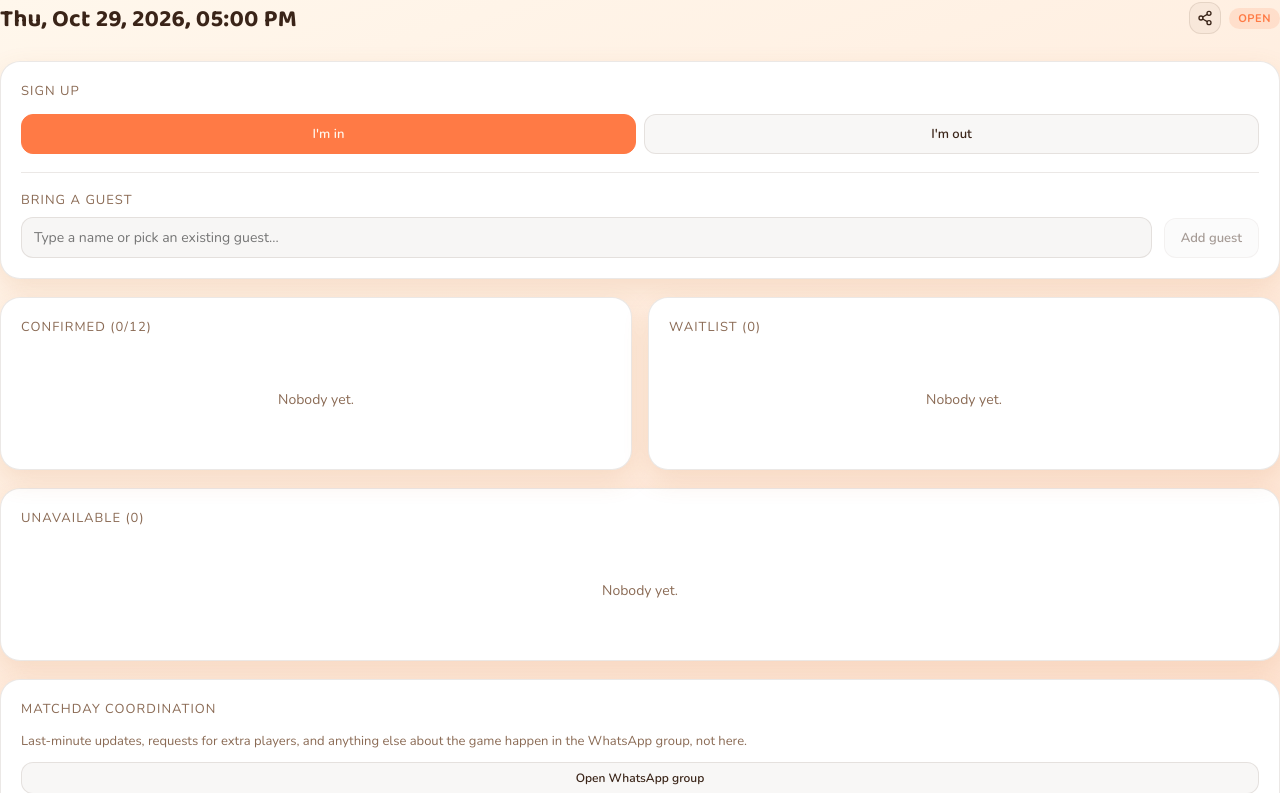
Test: GamedayDetail - signing up › shows the server's error when registering fails
Click the button "I'm in" at (328, 134), box x1=21 y1=114 x2=636 y2=154
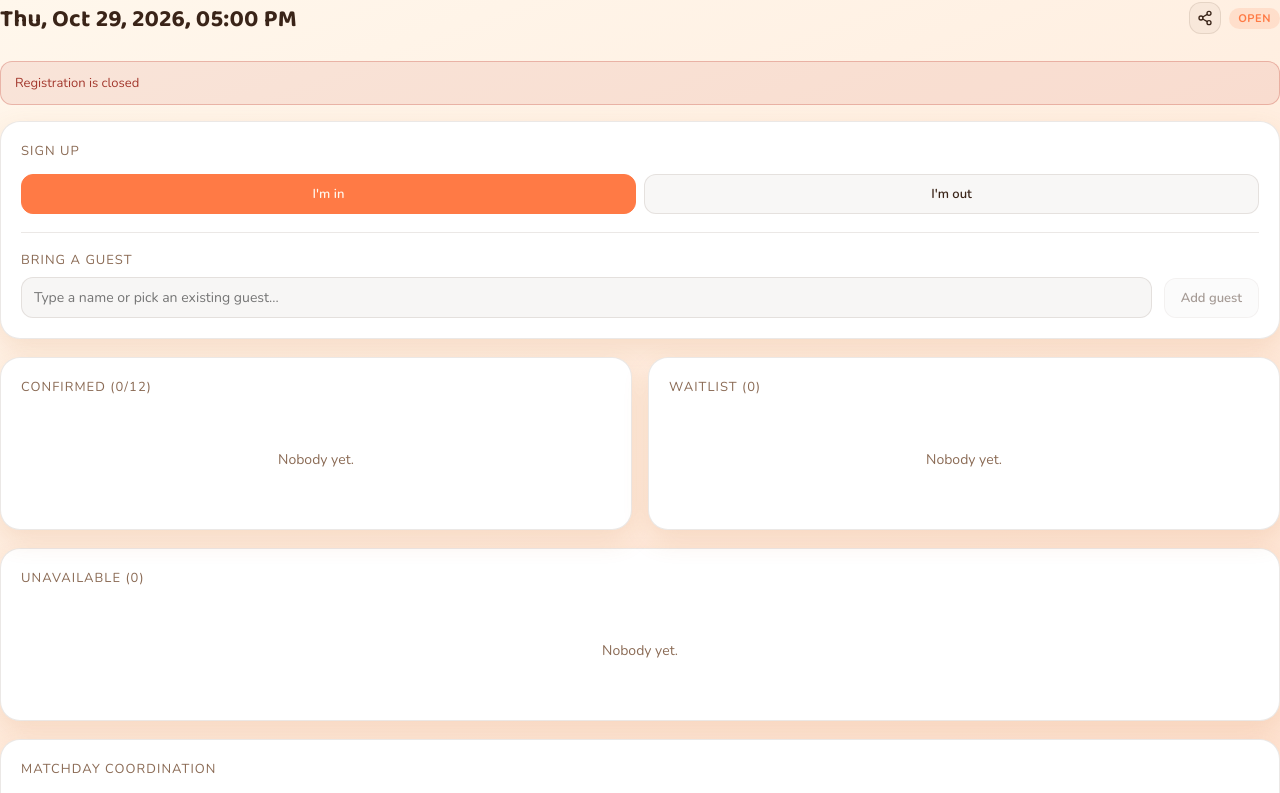
Expected: the text "Registration is closed" is shown, x1=0 y1=61 x2=1279 y2=105
